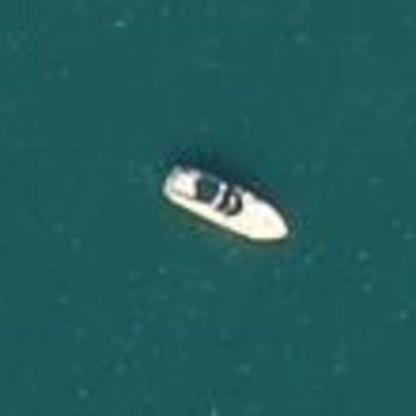ship: (152, 148, 298, 253)
